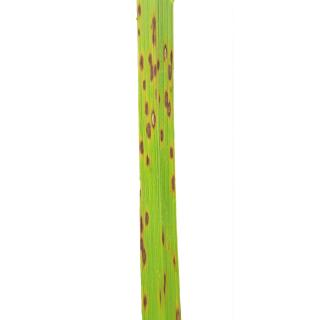bercak-Cokelat: (139, 215, 149, 272), (147, 13, 159, 50), (148, 53, 161, 85), (162, 88, 174, 119), (140, 291, 149, 316), (159, 225, 167, 251), (144, 121, 154, 141), (172, 305, 182, 320), (163, 43, 170, 64), (171, 173, 177, 197), (143, 101, 151, 118), (163, 270, 168, 297), (139, 54, 146, 73), (144, 207, 150, 228), (160, 128, 167, 145), (144, 154, 152, 168), (168, 145, 174, 163), (136, 3, 142, 18)
